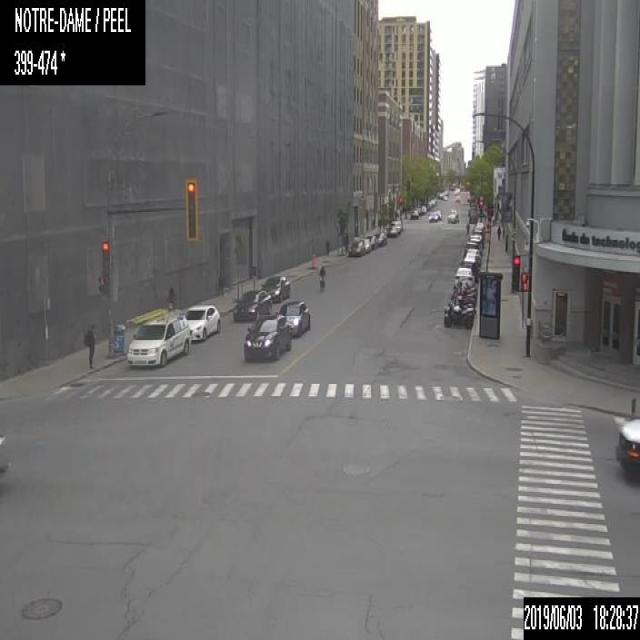construction: (249, 264, 256, 289), (310, 251, 316, 268)
cyclist: (318, 263, 325, 293)
pedestrian: (84, 324, 94, 368), (215, 267, 223, 296), (167, 285, 175, 311), (324, 236, 329, 256), (495, 225, 501, 240), (465, 222, 469, 234)
vehicle: (125, 307, 189, 367), (243, 312, 292, 360), (613, 417, 639, 471), (183, 303, 220, 340), (232, 288, 271, 322), (276, 299, 310, 336), (443, 301, 472, 327), (260, 275, 290, 300), (444, 297, 474, 317), (447, 289, 476, 308), (452, 266, 474, 287), (451, 280, 477, 297), (461, 262, 477, 278), (463, 241, 481, 254), (348, 241, 363, 255), (358, 238, 371, 252), (462, 254, 478, 265), (365, 234, 377, 248), (466, 248, 480, 259), (468, 233, 482, 244), (390, 219, 401, 233), (375, 232, 386, 245), (386, 226, 396, 237), (446, 213, 458, 222), (472, 226, 483, 234), (410, 209, 418, 218), (428, 212, 437, 220), (454, 193, 461, 203), (433, 210, 441, 218), (474, 221, 484, 227)
